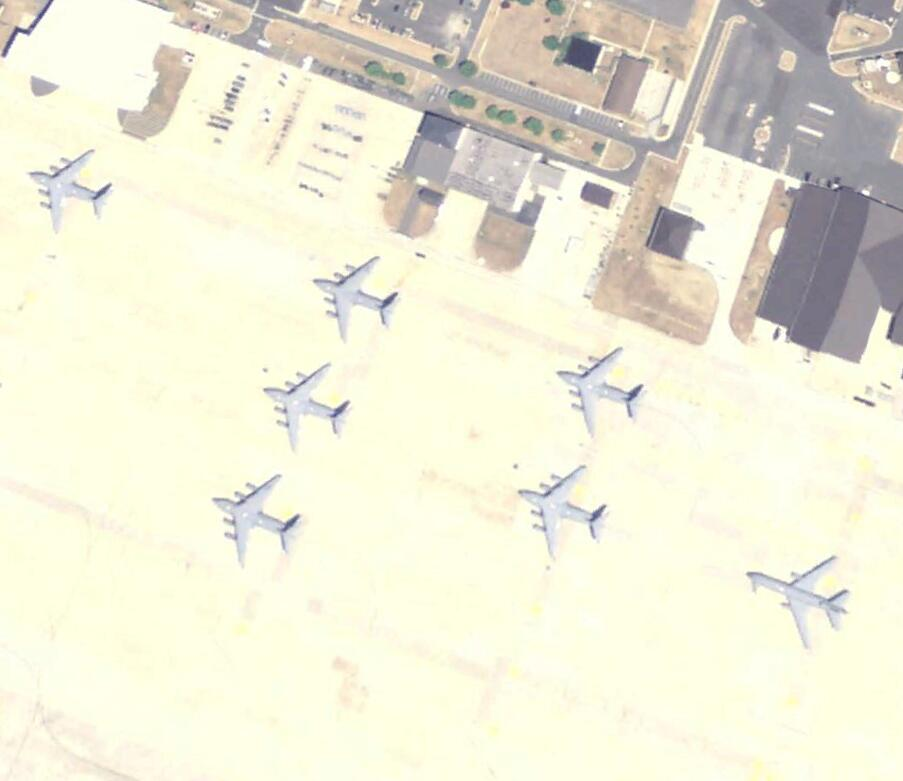A18: (747, 548, 857, 654)
A3: (517, 463, 612, 561), (214, 472, 306, 565), (311, 253, 403, 343), (263, 361, 353, 452), (559, 346, 647, 436), (29, 146, 116, 234)
